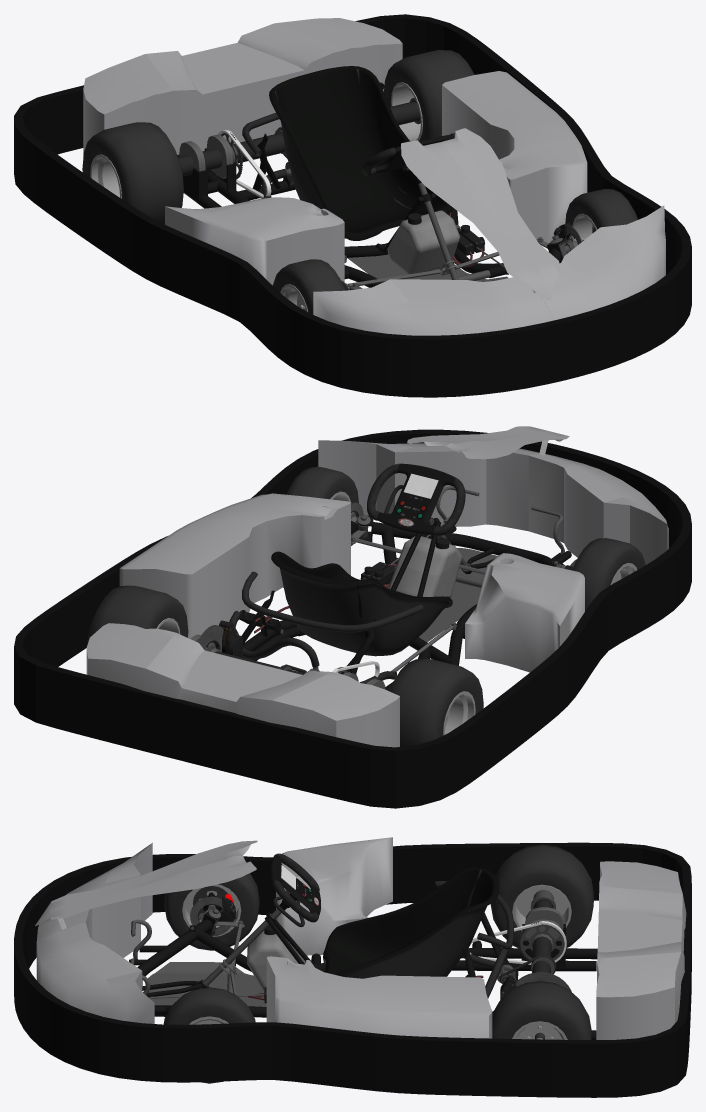
File: r25-kart.glb
3 views of the same model, one above another, from view 1: azimuth 30°, elevation 25°; view 2: azimuth 150°, elevation 25°; view 3: azimuth 270°, elevation 25° (orthographic). The views are drawn at different scales.
Visible parts, largest first — view 1: Go-Kart; view 2: Go-Kart; view 3: Go-Kart.
Part boxes in pixels (x1=…): Go-Kart: x1=14, y1=14, x2=691, y2=397; Go-Kart: x1=14, y1=426, x2=691, y2=808; Go-Kart: x1=14, y1=837, x2=691, y2=1097.
Size of the model in its own units: 7.5 by 2.79 by 10.7.
Materials: 12 (7 with a texture image).
